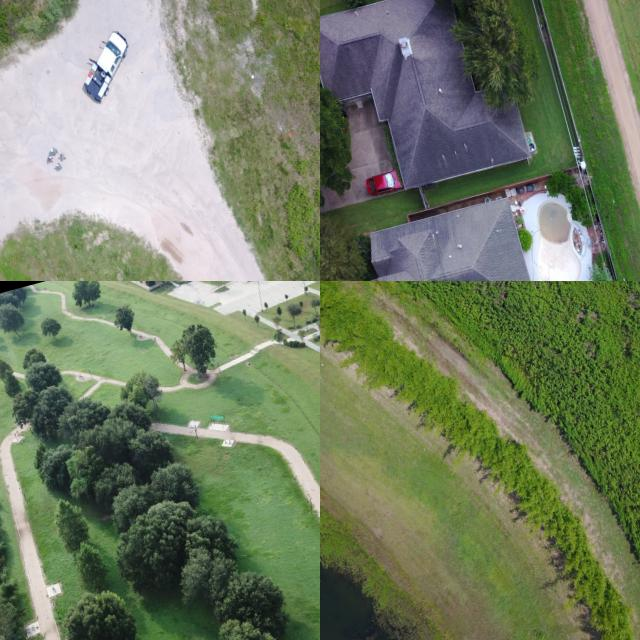fire: (320, 564, 398, 640)
